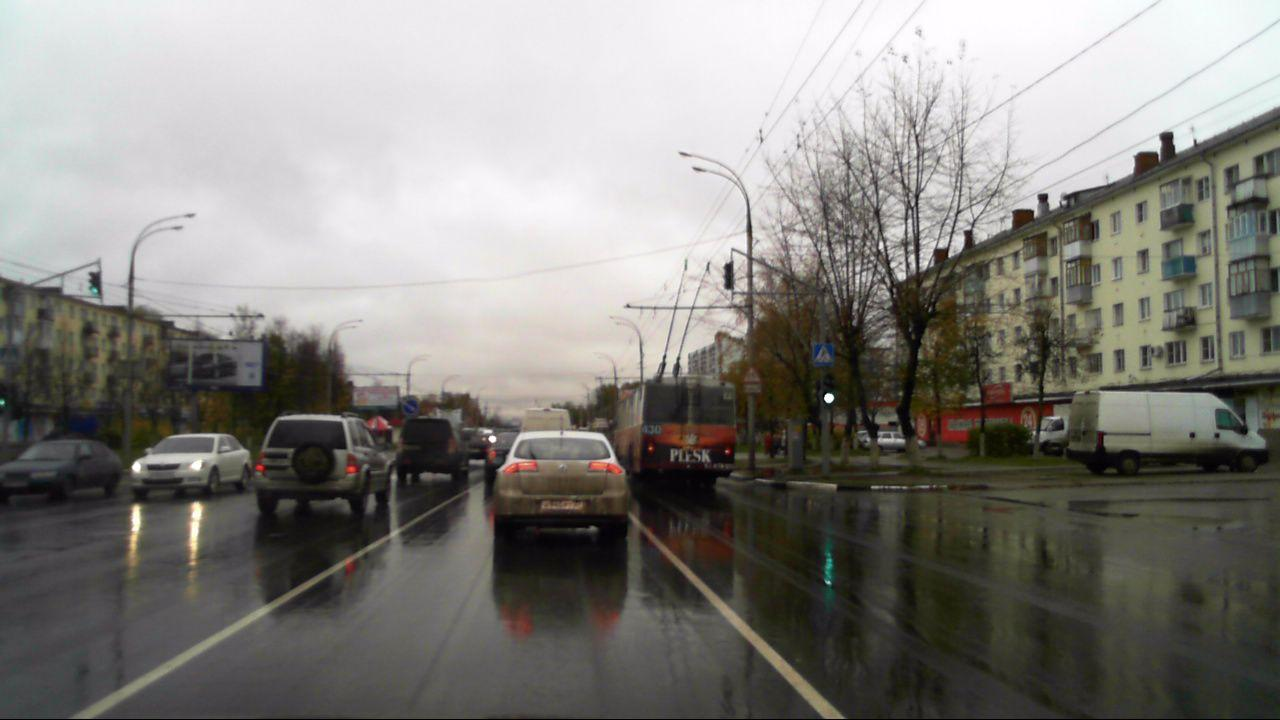road_sign: (813, 344, 834, 366)
traffic light: (820, 370, 835, 408), (88, 271, 102, 295)
